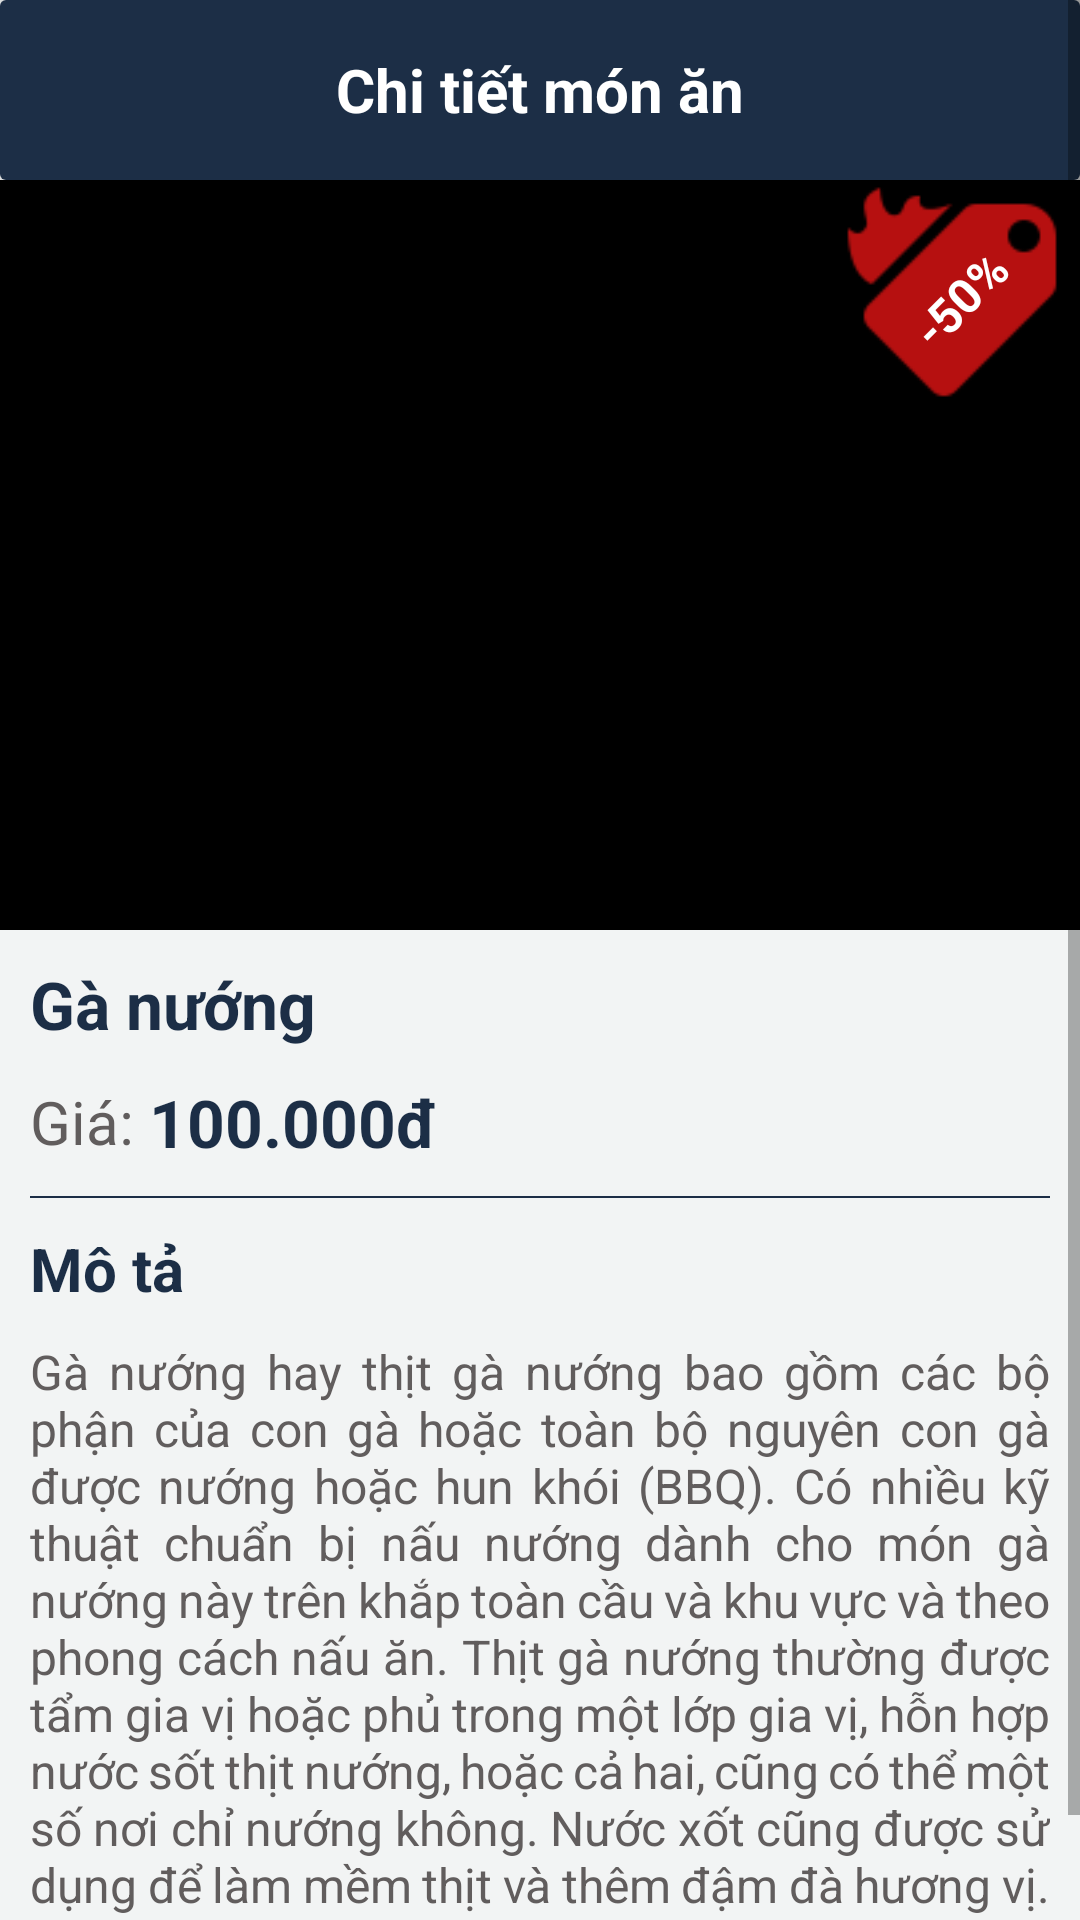

Icons on this 1080px×1920px Android screen, each with the point to tap as (x,y):
sale off: (952,292)
